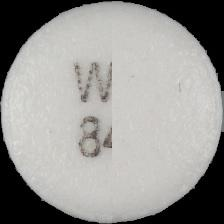33261-835: (0, 0, 224, 224)
